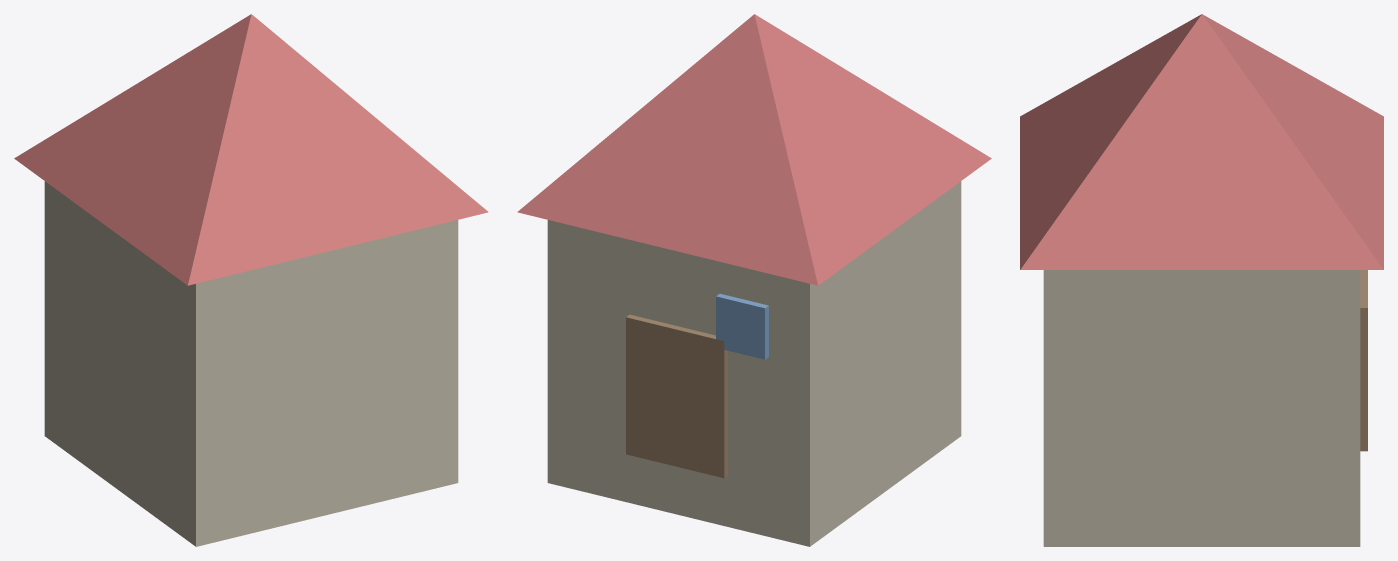
The model's file is kid_cabana2.glb.
3 views of the same model, side by side, from view 1: azimuth 30°, elevation 25°; view 2: azimuth 150°, elevation 25°; view 3: azimuth 270°, elevation 25° (orthographic). The views are drawn at different scales.
Parts seen in each view (by area): view 1: KID_CABANA2_v01; view 2: KID_CABANA2_v01; view 3: KID_CABANA2_v01.
Part boxes in pixels (x1,y1,x2,y2): KID_CABANA2_v01: [14, 14, 488, 546]; KID_CABANA2_v01: [517, 14, 991, 546]; KID_CABANA2_v01: [1020, 14, 1383, 546].
Size of the model in its own units: 0.9192 by 1.3 by 0.9192.
